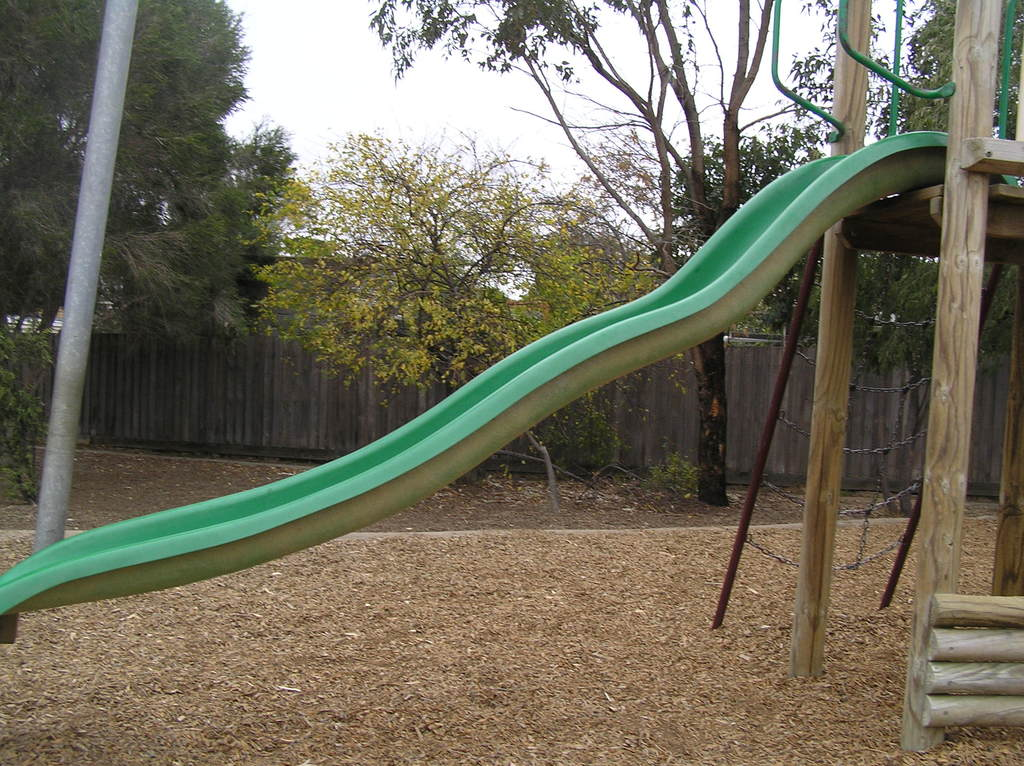Tree: (0, 0, 1024, 511)
